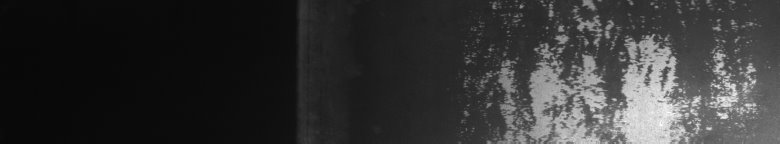kb: (461, 4, 761, 136)
